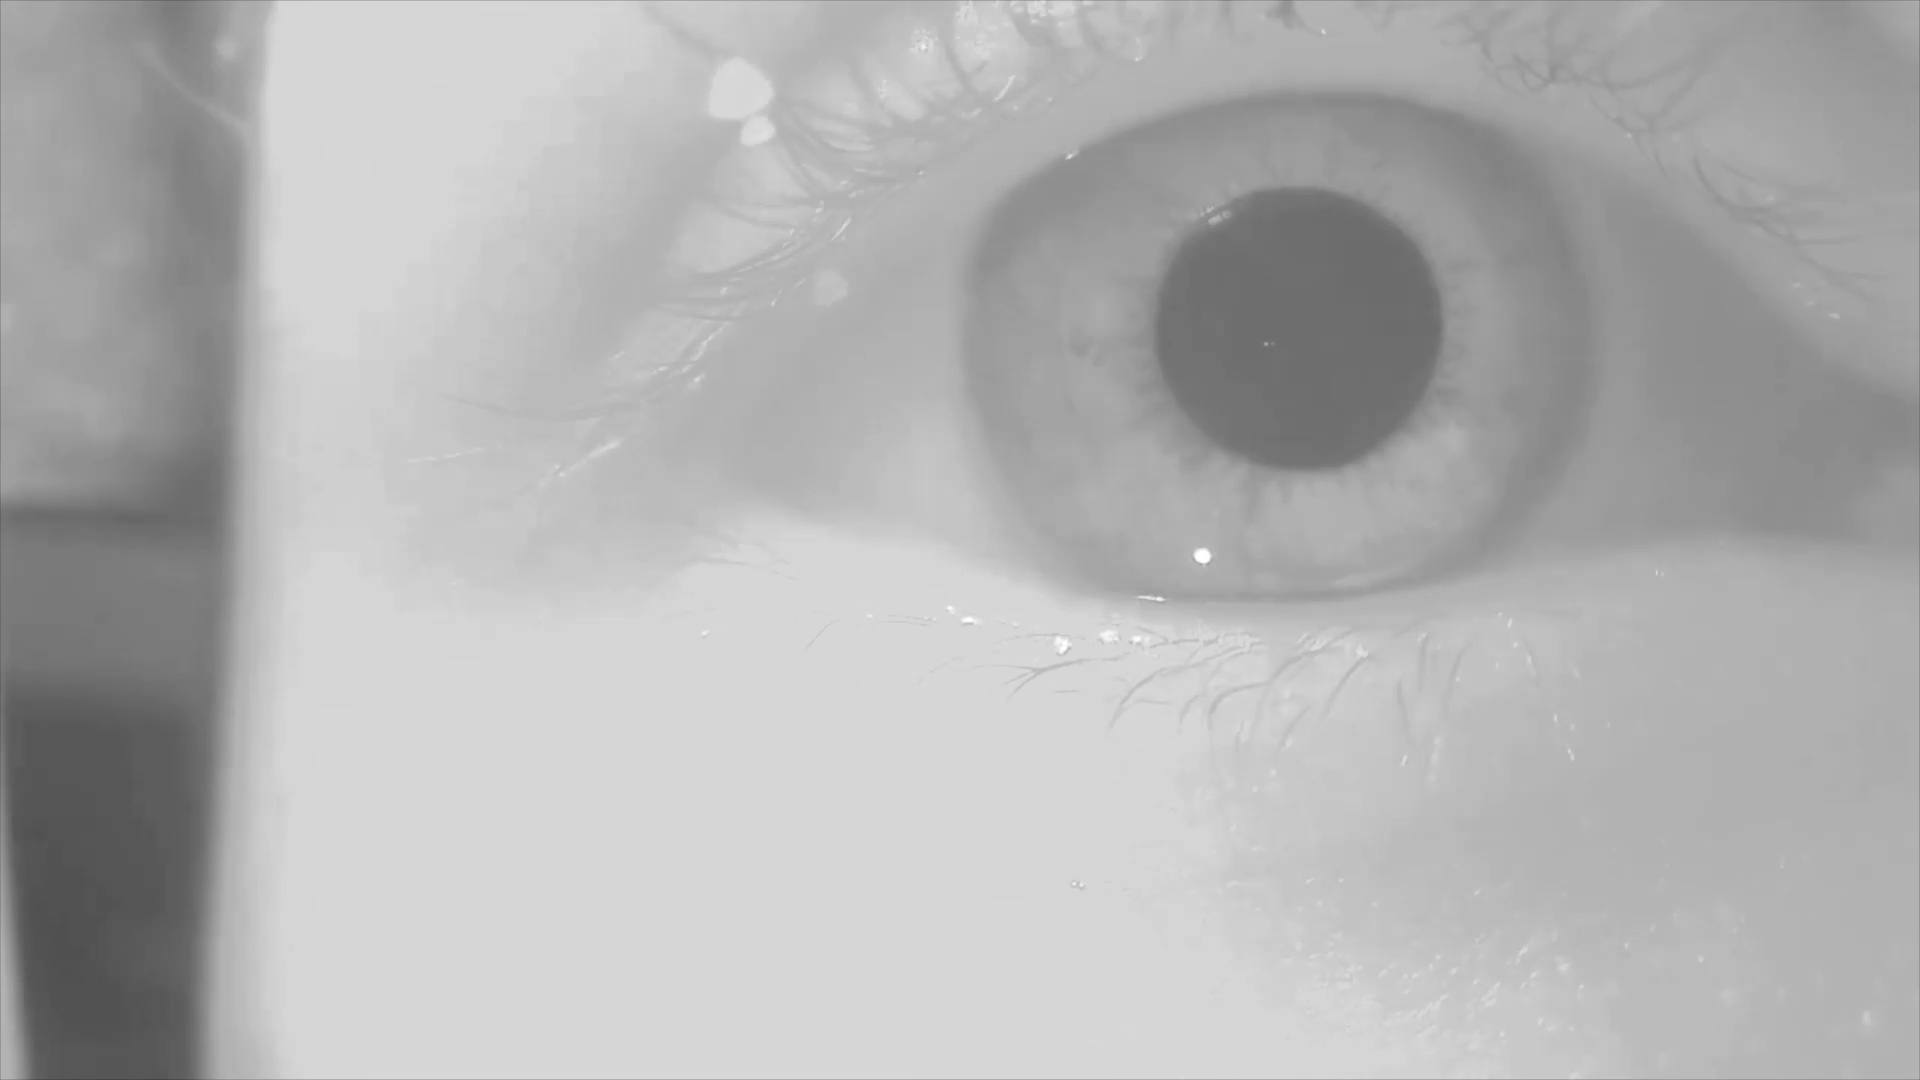pupil: (1161, 191, 1440, 470)
